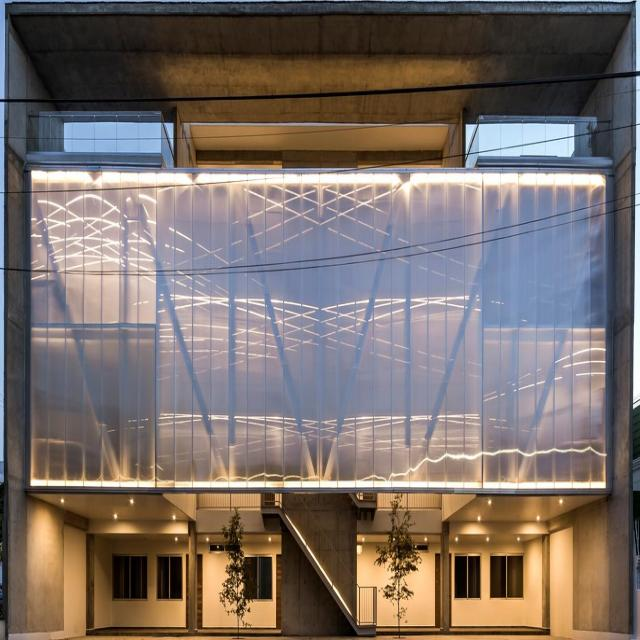Railing: (197, 493, 377, 626), (28, 114, 176, 165), (466, 118, 598, 166), (357, 493, 441, 512)
plant: (373, 493, 422, 602), (217, 508, 258, 629)
windows: (29, 163, 611, 492), (491, 556, 524, 600), (155, 554, 185, 599), (116, 558, 148, 597), (245, 559, 272, 602), (456, 555, 481, 599)
